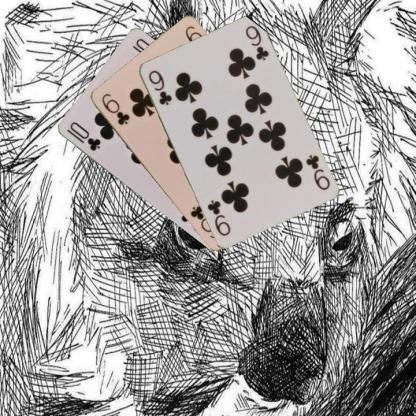10c: (63, 119, 102, 153)
6c: (99, 90, 131, 127)
9c: (302, 152, 331, 192), (145, 67, 173, 106)
